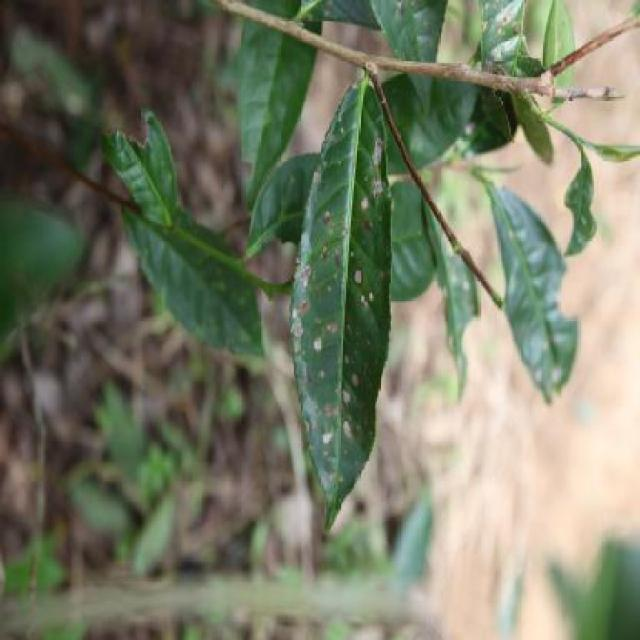Leaf rust of tea: (283, 81, 415, 542)
